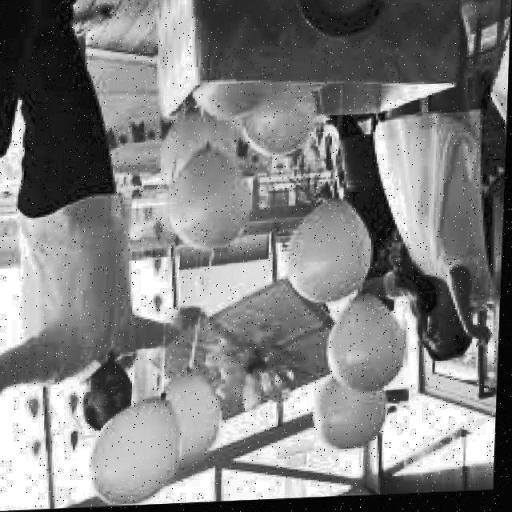balloon: (92, 398, 182, 508), (323, 300, 413, 396), (291, 202, 373, 307), (174, 148, 252, 258), (152, 366, 226, 470), (310, 372, 392, 454), (162, 114, 237, 187), (246, 96, 326, 161), (191, 72, 259, 124)
